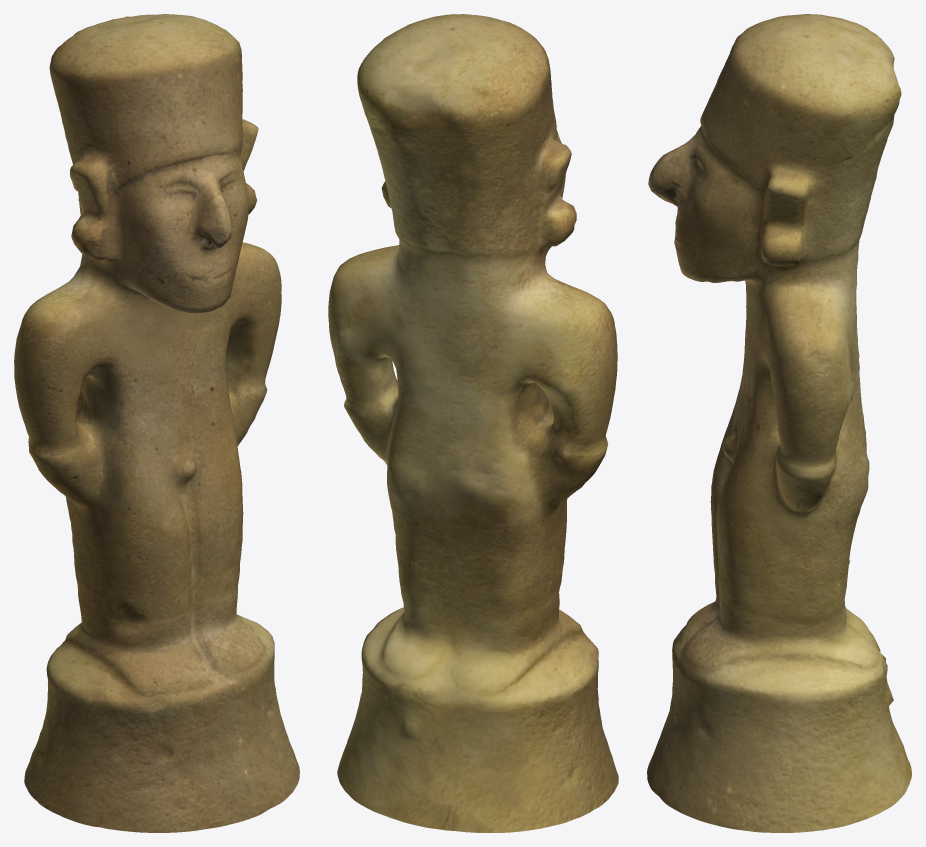
The model's file is idolo_prehispanico_de_quito_ecuador.glb.
The picture shows the model from 3 angles, left to right: view 1: azimuth 30°, elevation 25°; view 2: azimuth 150°, elevation 25°; view 3: azimuth 270°, elevation 25°; orthographic projection.
Visible parts, largest first — view 1: Object_2; view 2: Object_2; view 3: Object_2.
Part boxes in pixels (box(x1,y1,x2,y2)): Object_2: box(14, 14, 299, 832); Object_2: box(328, 14, 618, 832); Object_2: box(647, 14, 911, 832).
Size of the model in its own units: 0.2308 by 0.6204 by 0.1997.
2 materials, 1 textured.
